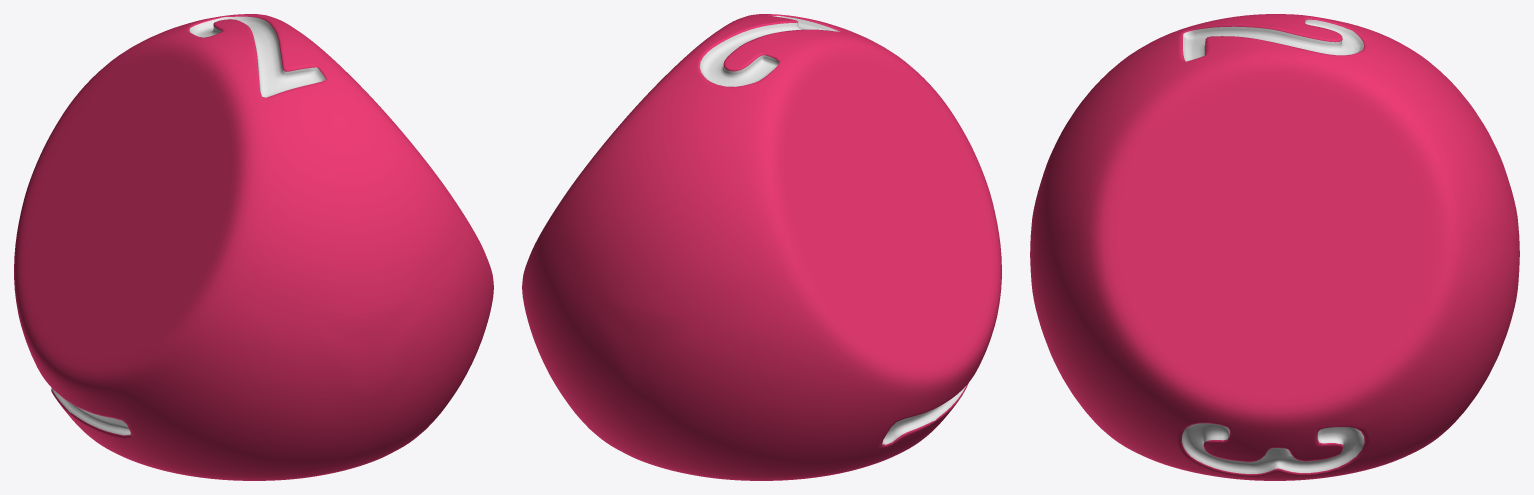
Rendered from Dice_D3.fbx.
The picture shows the model from 3 angles, left to right: view 1: azimuth 30°, elevation 25°; view 2: azimuth 150°, elevation 25°; view 3: azimuth 270°, elevation 25°; orthographic projection.
Parts seen in each view (by area): view 1: Plane.004; view 2: Plane.004; view 3: Plane.004.
Part boxes in pixels (x1,y1,x2,y2): Plane.004: (14, 14, 493, 480); Plane.004: (522, 14, 1001, 480); Plane.004: (1030, 14, 1519, 480).
Bounding box in the file's own units: 223 × 199 × 233.
